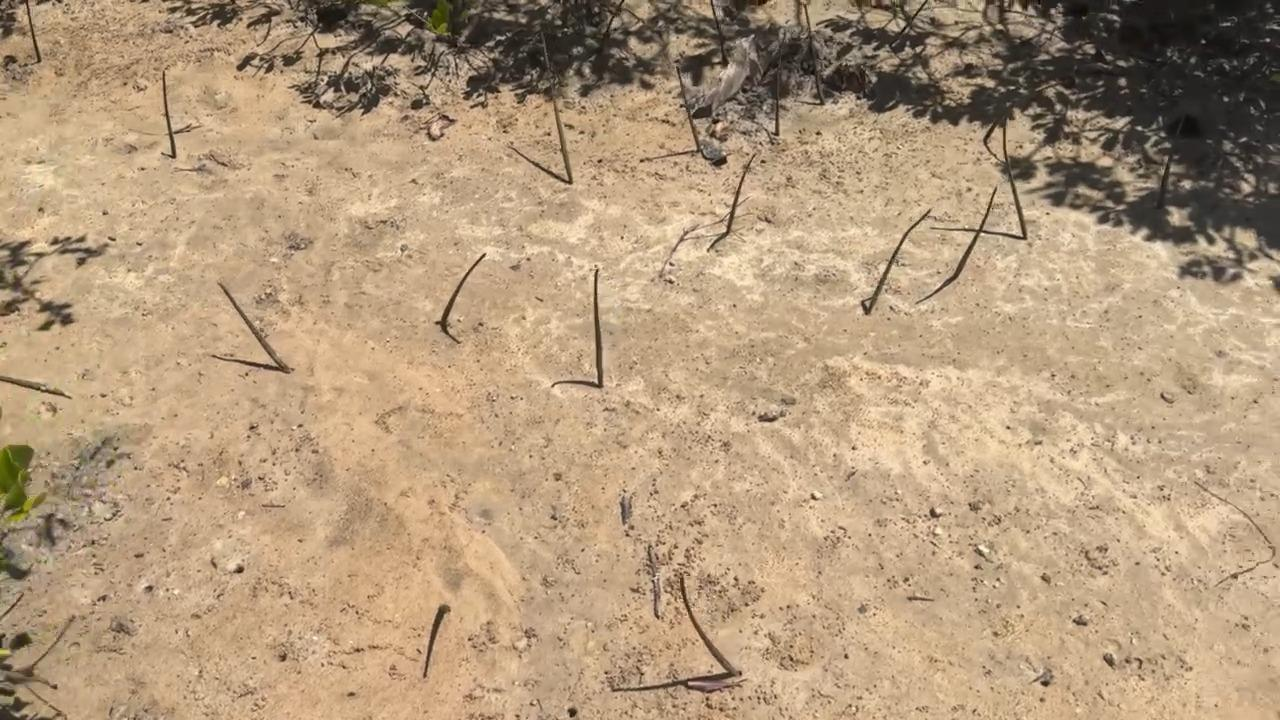Tree: (216, 278, 294, 375), (866, 207, 934, 315), (679, 575, 743, 679), (540, 32, 575, 185), (953, 185, 999, 281), (982, 79, 1043, 147), (1155, 107, 1190, 209), (1002, 109, 1029, 241), (441, 253, 488, 326), (724, 153, 759, 235), (803, 1, 827, 105), (675, 65, 703, 152), (597, 0, 627, 57), (162, 69, 179, 160), (706, 0, 729, 67), (593, 266, 605, 388), (25, 0, 43, 63), (775, 41, 781, 136), (437, 603, 454, 616)
